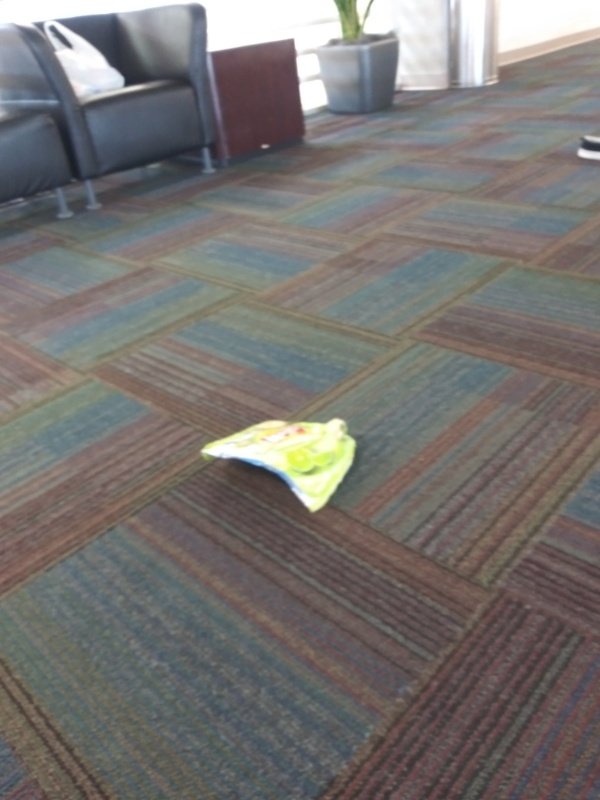bag: (194, 409, 364, 520)
